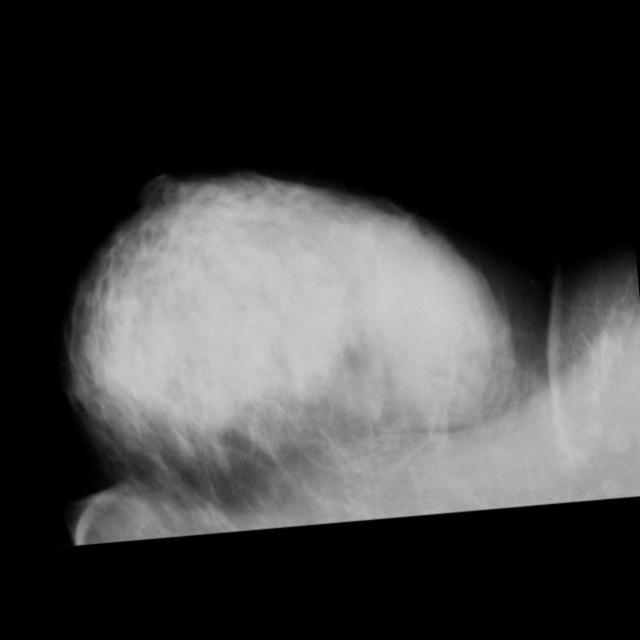CALC: (361, 218, 392, 248)
